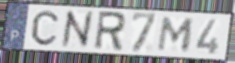4: (195, 18, 221, 56)
7: (131, 11, 160, 55)
C: (30, 9, 60, 47)
M: (155, 16, 197, 53)
N: (60, 9, 94, 50)
R: (92, 10, 127, 53)
